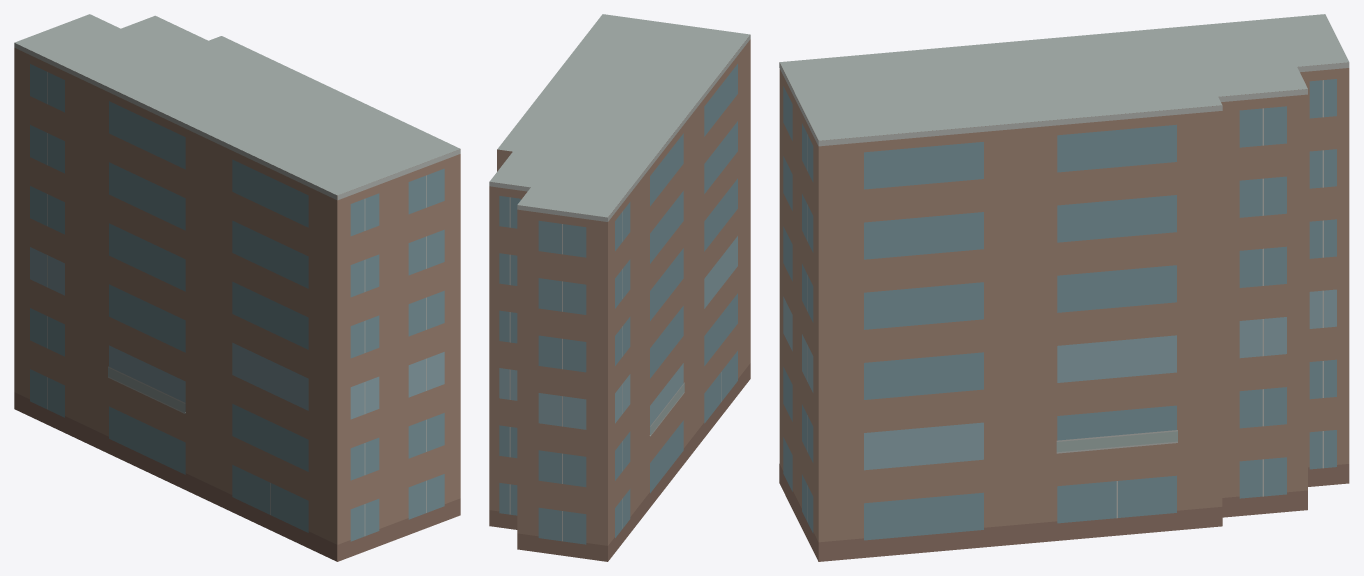
The model's file is survey-upis-32653621.glb.
3 views of the same model, side by side, from view 1: azimuth 30°, elevation 25°; view 2: azimuth 150°, elevation 25°; view 3: azimuth 270°, elevation 25° (orthographic). The views are drawn at different scales.
Visible parts, largest first — view 1: survey-upis-32653621.tmp; view 2: survey-upis-32653621.tmp; view 3: survey-upis-32653621.tmp.
Part boxes in pixels (bbox=[...]): survey-upis-32653621.tmp: bbox=[14, 14, 460, 561]; survey-upis-32653621.tmp: bbox=[489, 14, 750, 561]; survey-upis-32653621.tmp: bbox=[779, 14, 1349, 561].
Size of the model in its own units: 11.83 by 18.3 by 22.46.
